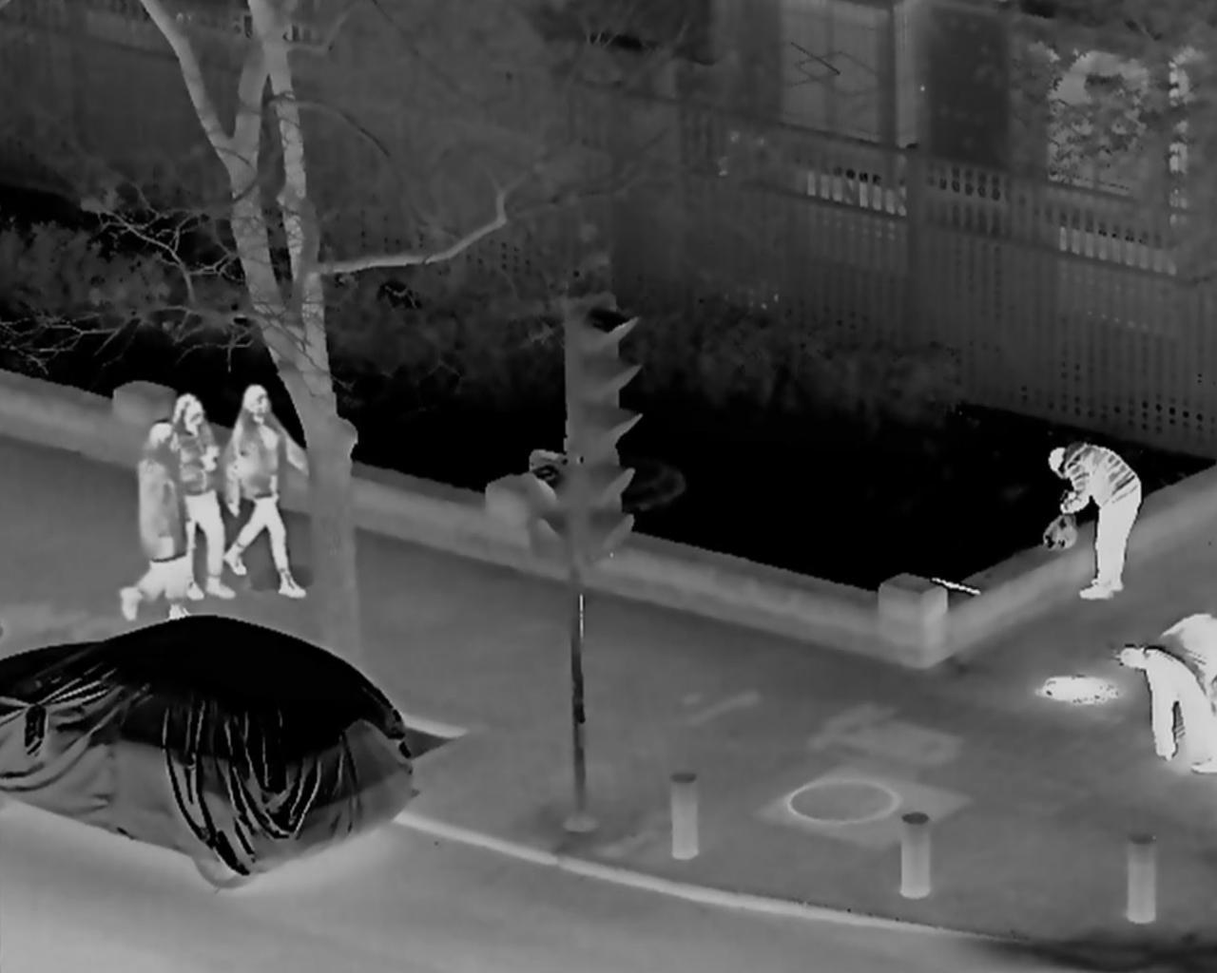person: (220, 386, 318, 601), (1043, 445, 1138, 604), (1129, 608, 1215, 779), (160, 393, 228, 601), (122, 428, 192, 619)
